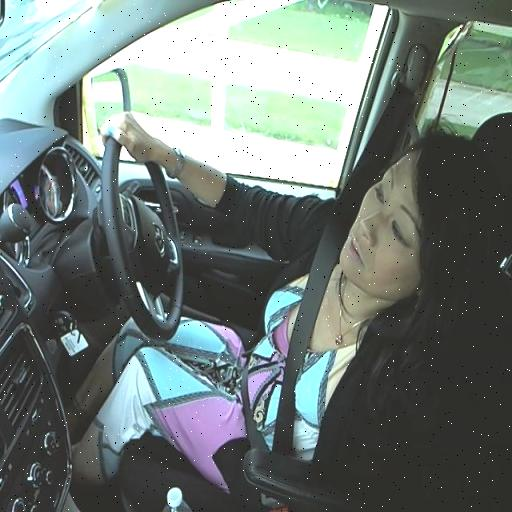turning: (96, 108, 480, 423)
